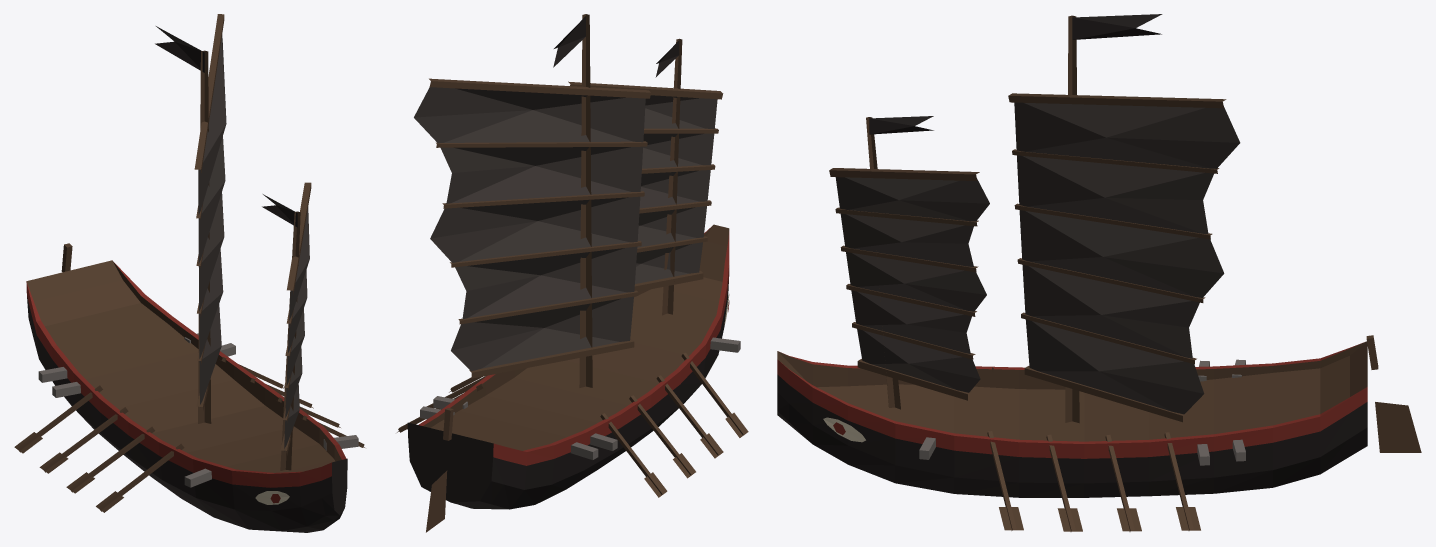
The model's file is pirate_raider.glb.
The picture shows the model from 3 angles, left to right: view 1: azimuth 30°, elevation 25°; view 2: azimuth 150°, elevation 25°; view 3: azimuth 270°, elevation 25°; orthographic projection. The views are drawn at different scales.
Parts seen in each view (by area): view 1: pirate_raider; view 2: pirate_raider; view 3: pirate_raider.
Boxes of the visible parts, x1,y1,x2,y2 form: pirate_raider: [14, 14, 364, 532]; pirate_raider: [397, 14, 748, 532]; pirate_raider: [777, 14, 1421, 531].
Size of the model in its own units: 6.91 by 10.41 by 13.1.
